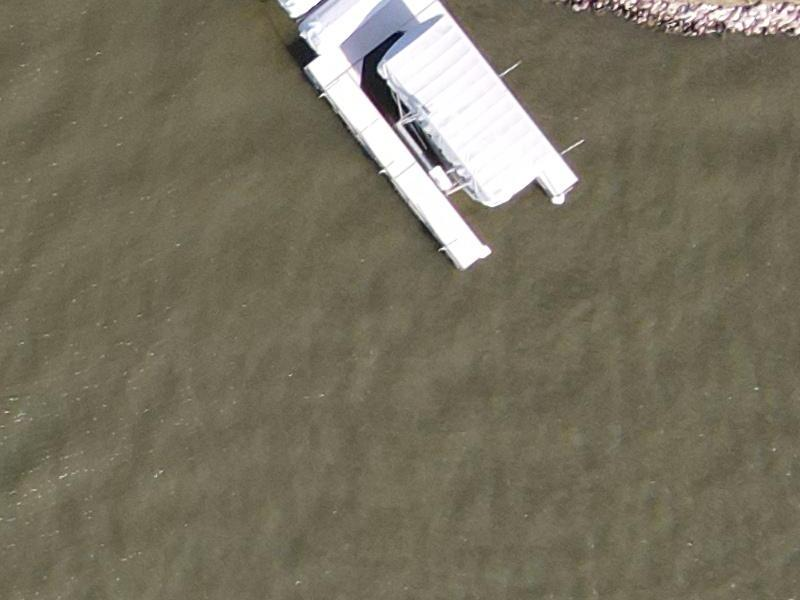boat: (245, 1, 580, 275)
lift: (369, 14, 554, 208)
